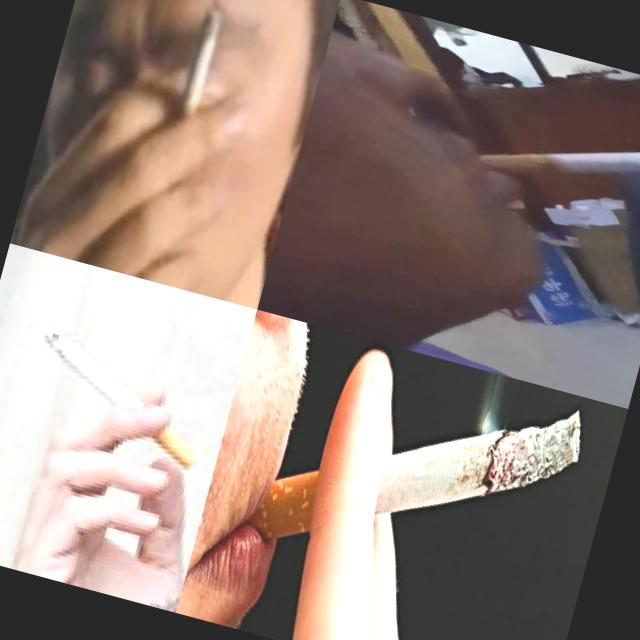cigarette: (224, 332, 590, 628), (17, 323, 220, 472), (473, 84, 640, 222), (173, 0, 229, 121)
